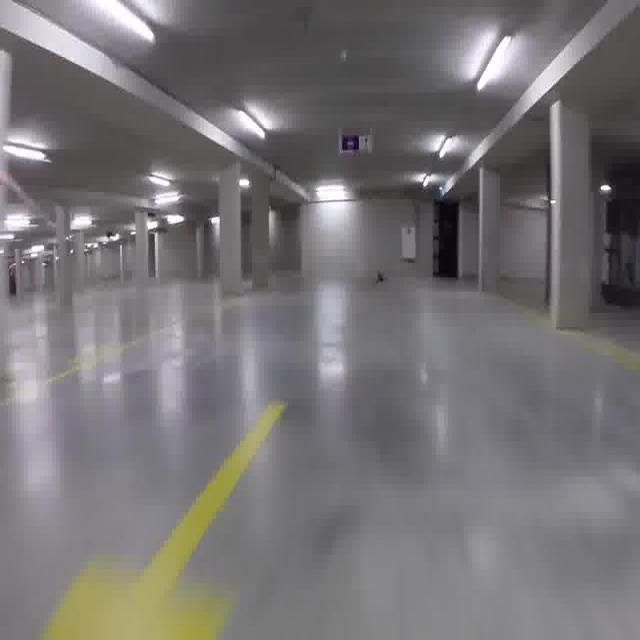drones: (365, 264, 394, 294)
